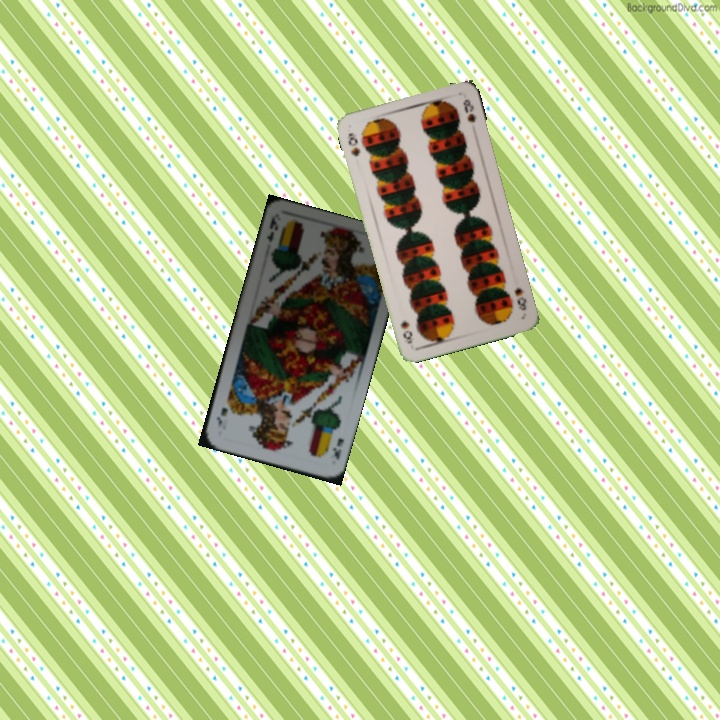EK: (262, 211, 281, 245), (328, 434, 347, 462)
S8: (342, 128, 363, 159), (510, 283, 529, 313)
